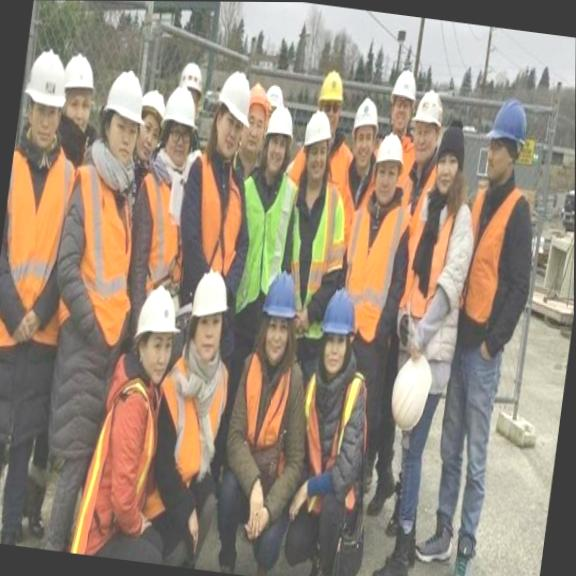safety_vest: (50, 154, 145, 364), (0, 140, 75, 376), (335, 188, 415, 341), (226, 171, 293, 324), (277, 163, 346, 309), (131, 156, 187, 297), (181, 154, 244, 276)
